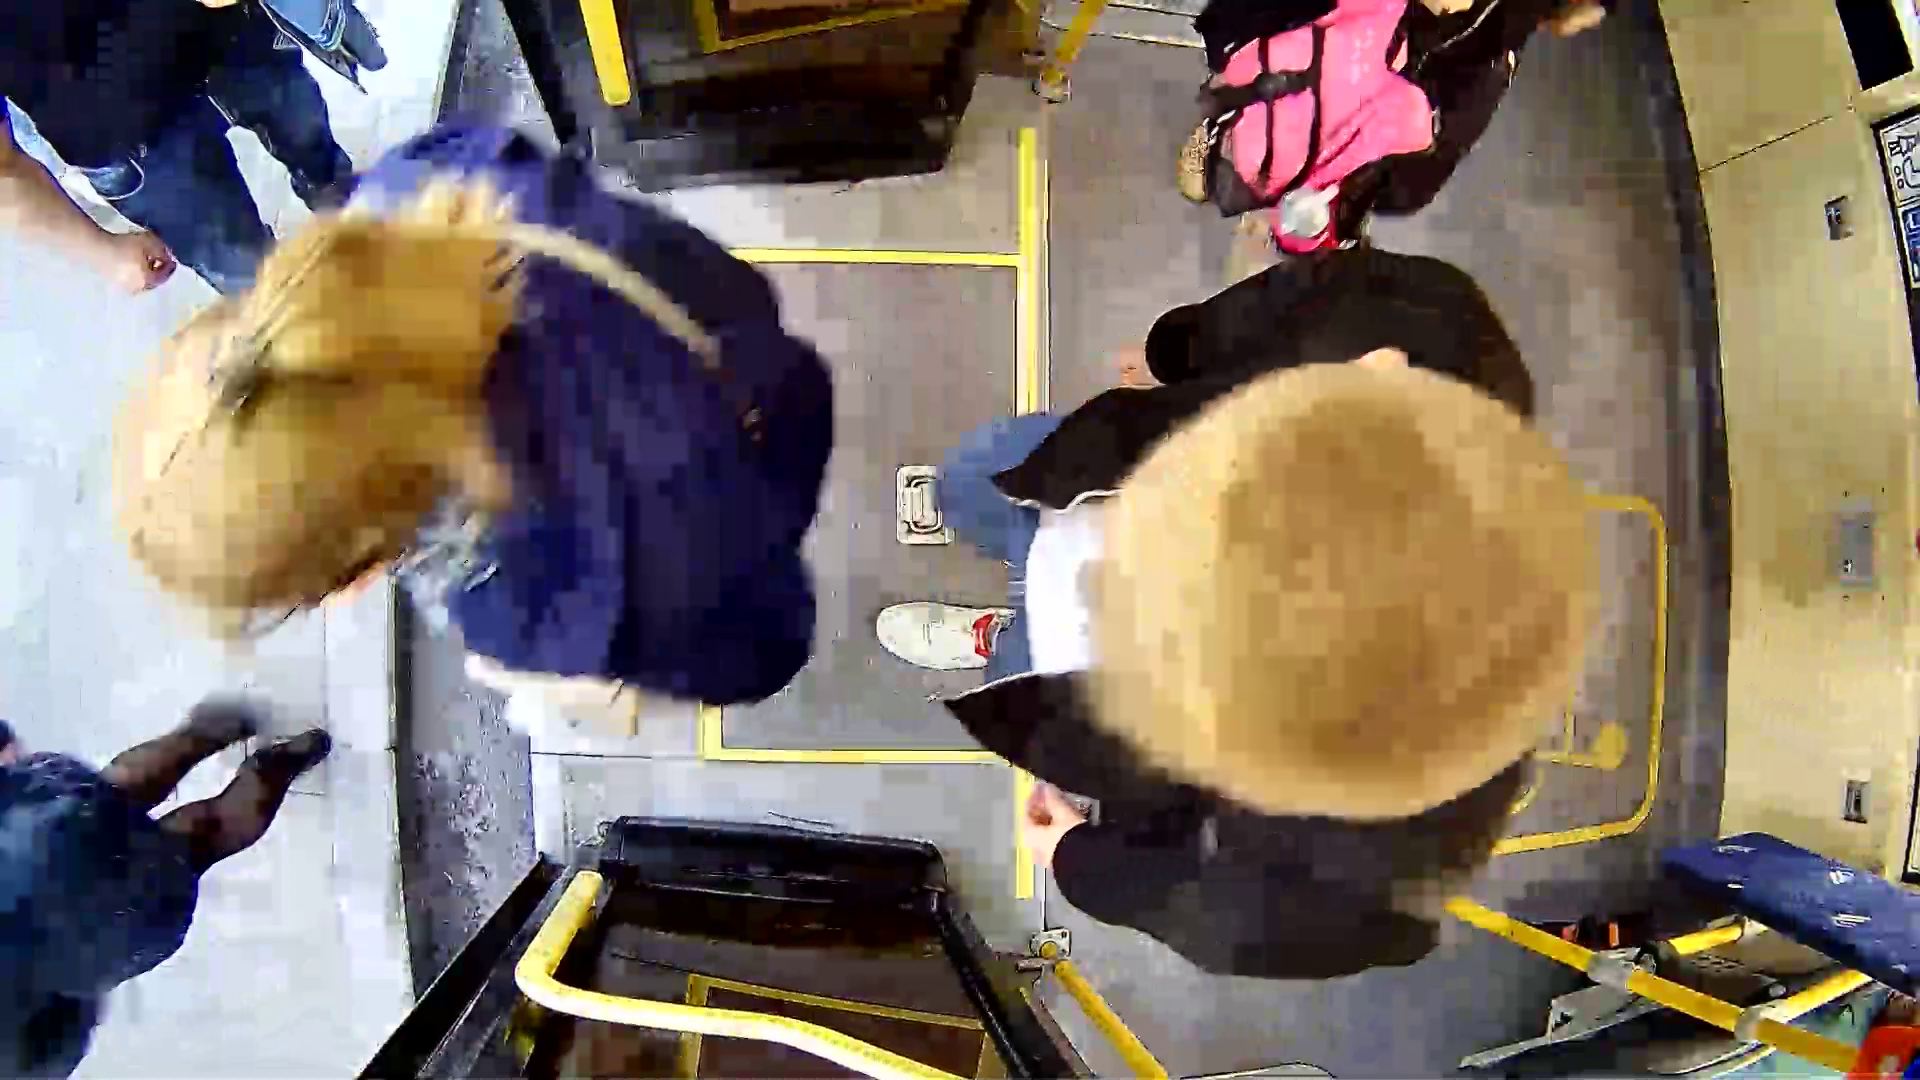person: (986, 241, 1642, 999), (121, 165, 886, 719)
